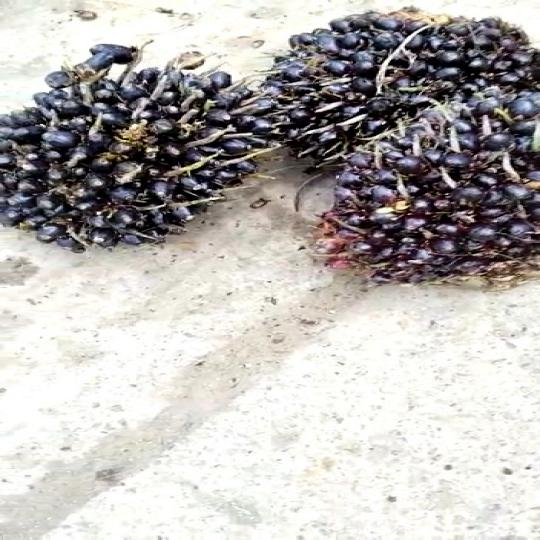mentah: (0, 28, 275, 260), (303, 82, 540, 279), (261, 0, 538, 166)
